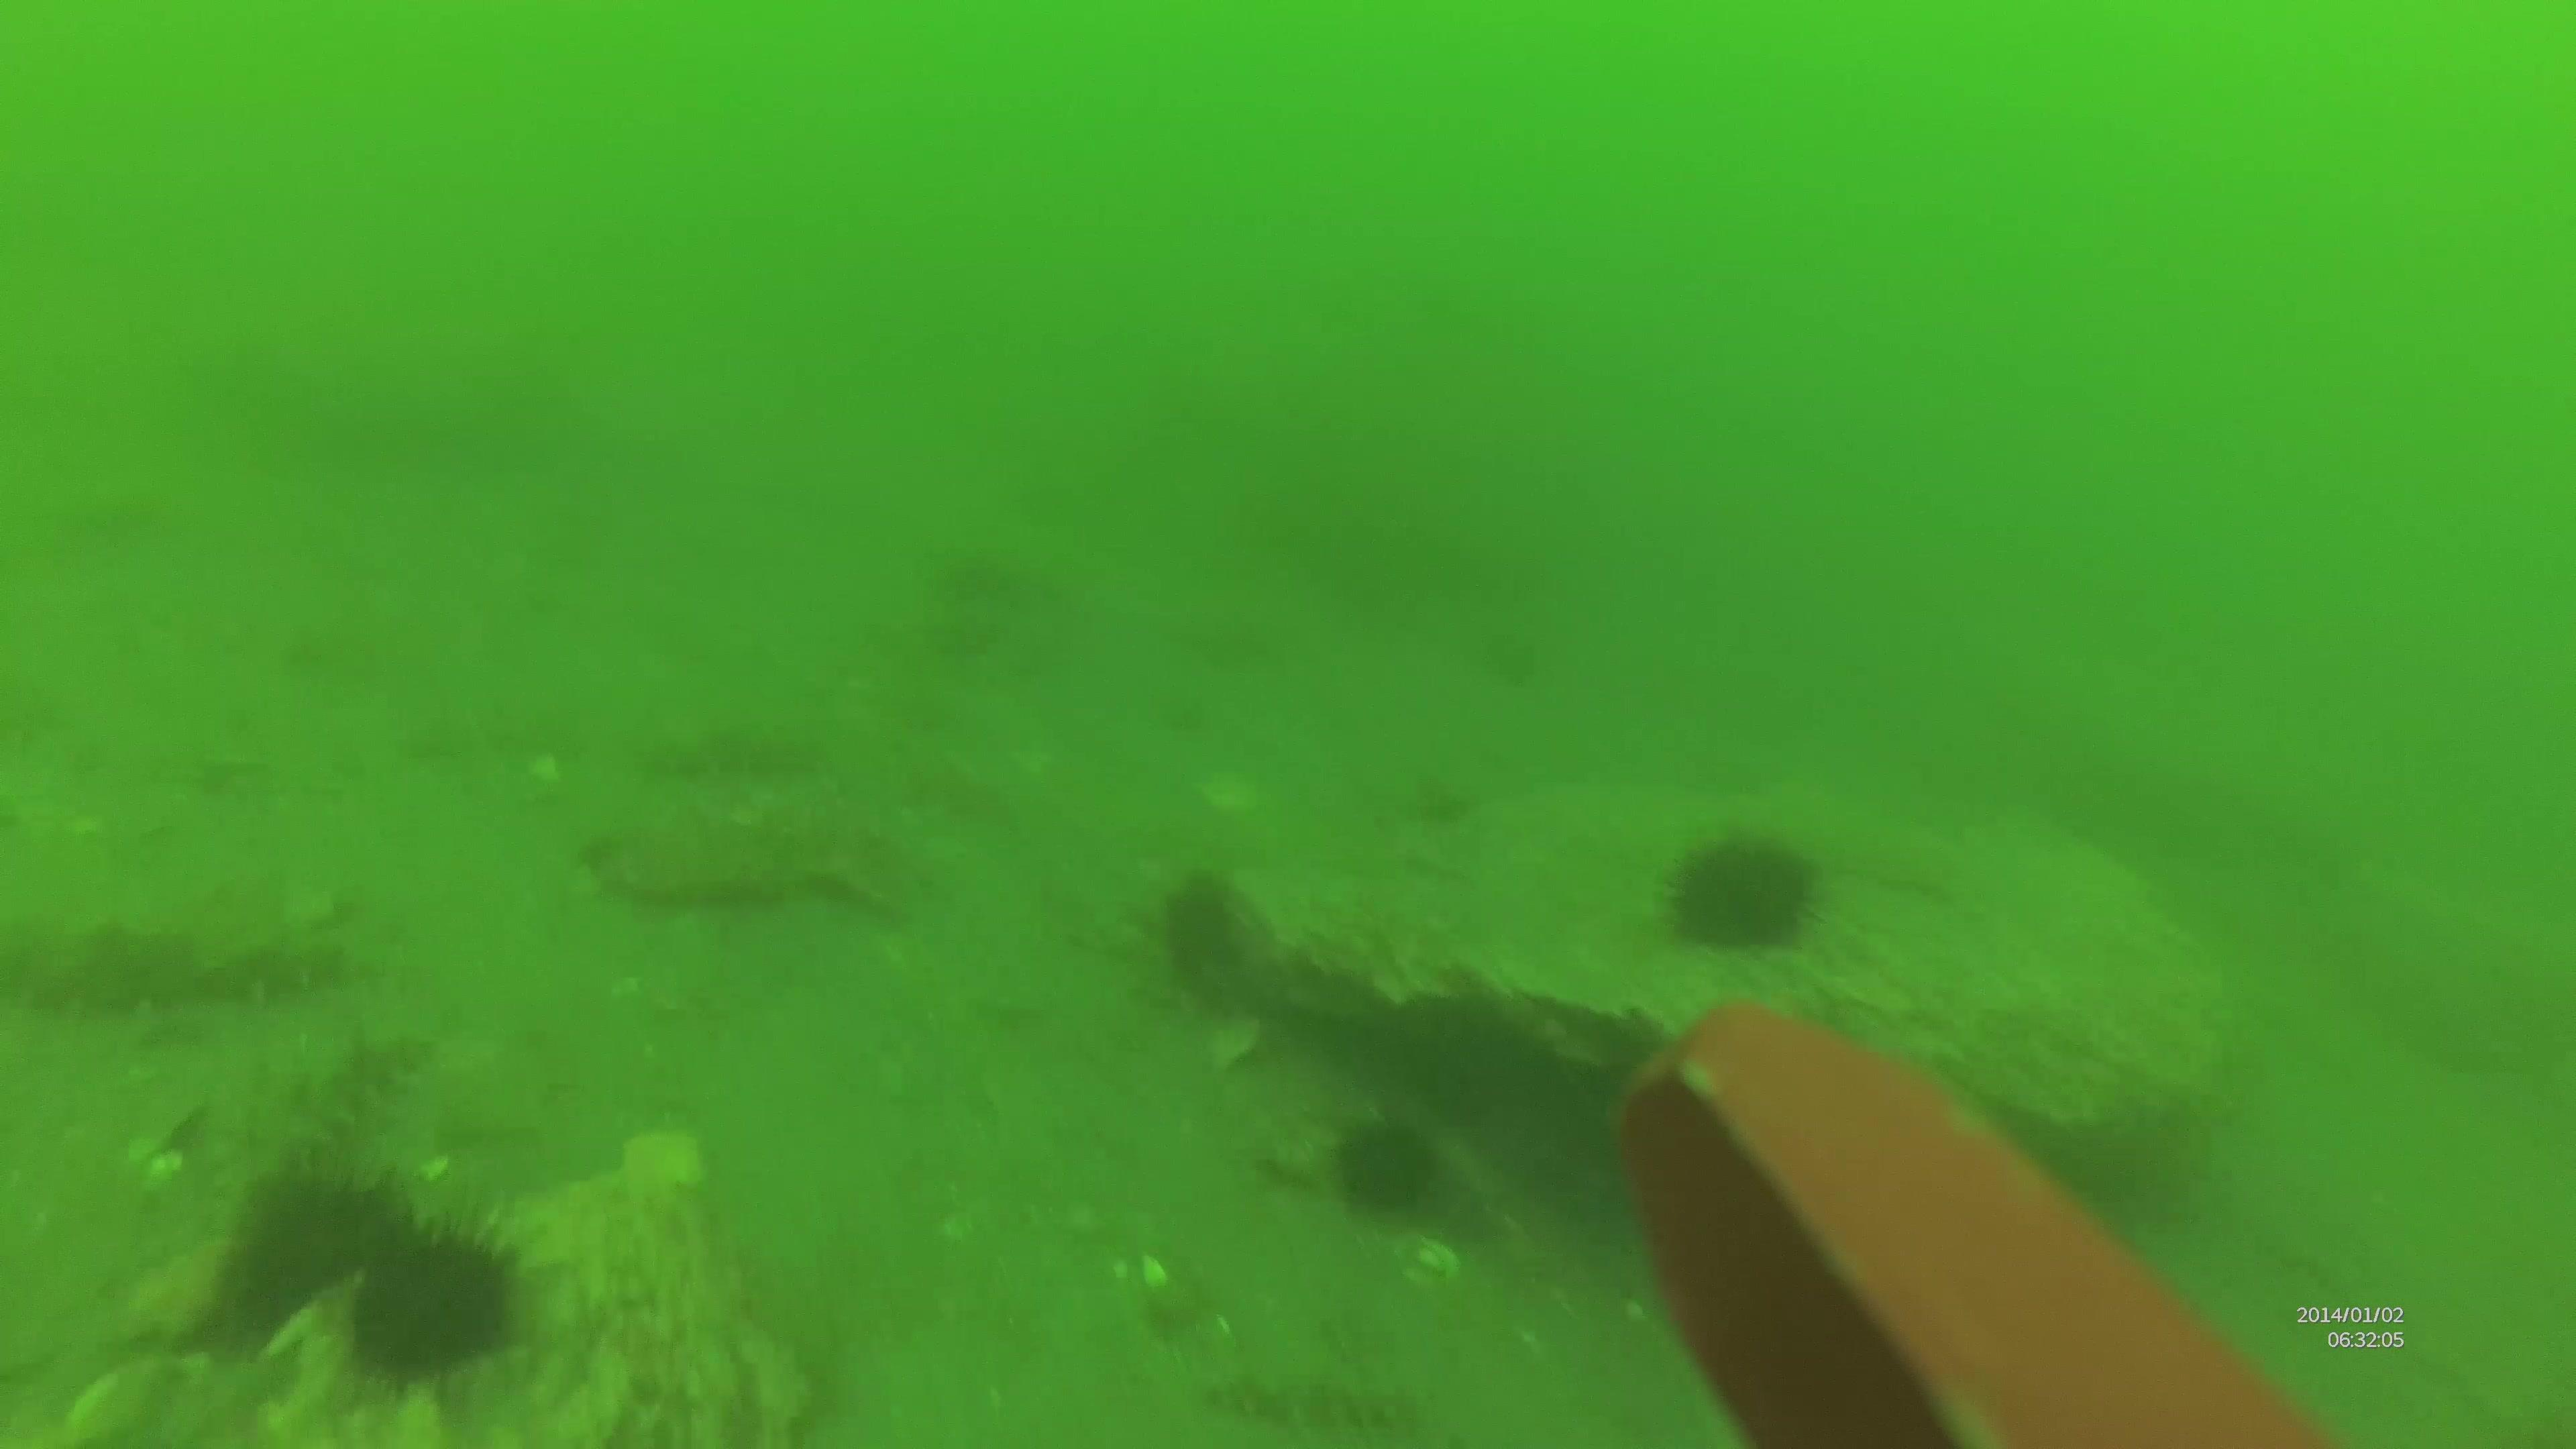echinus: (226, 1154, 414, 1339), (350, 1210, 522, 1380), (1654, 821, 1828, 957), (1330, 1113, 1438, 1219)
holothurian: (0, 890, 347, 1021), (195, 1016, 432, 1171)
